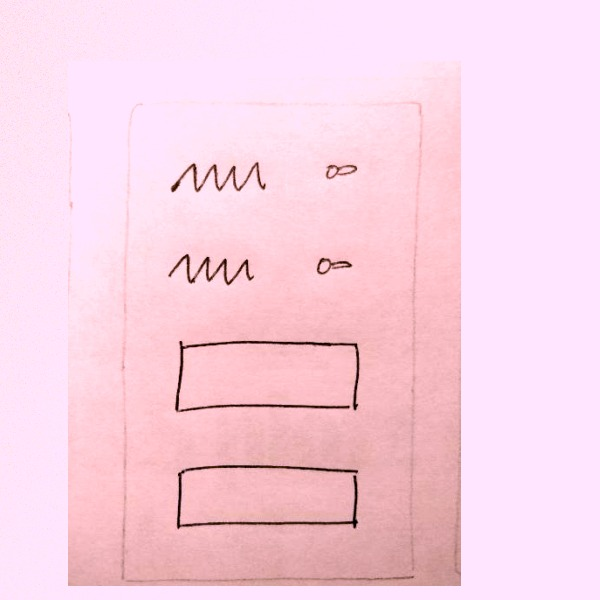switch: (303, 248, 376, 282), (317, 154, 373, 188)
text: (159, 151, 279, 203), (163, 244, 264, 296)
text_input: (168, 328, 373, 422), (164, 459, 371, 541)
